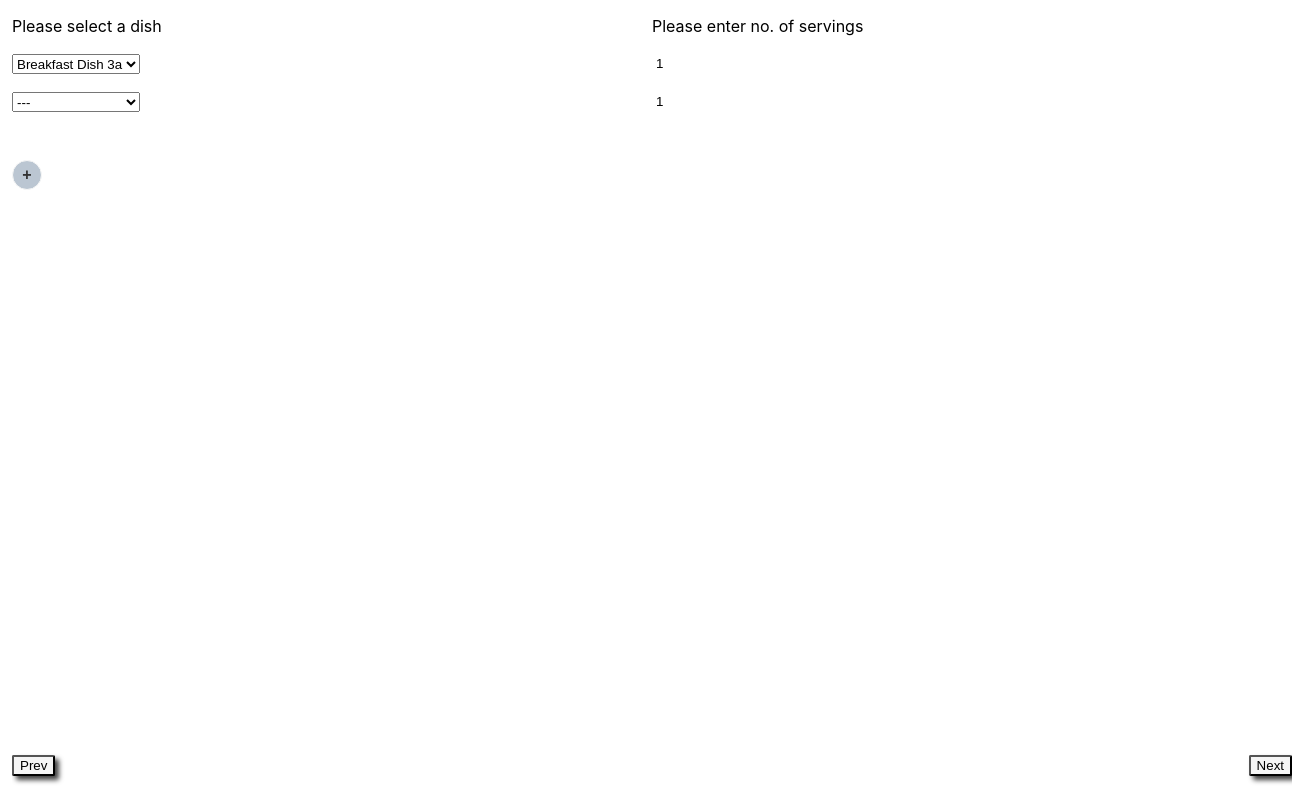
going to next page › should not proceed to next if valid meals are not selected
This screenshot has width=1304, height=800.
Click the button "Next": (1270, 766) [1249, 755, 1292, 776]
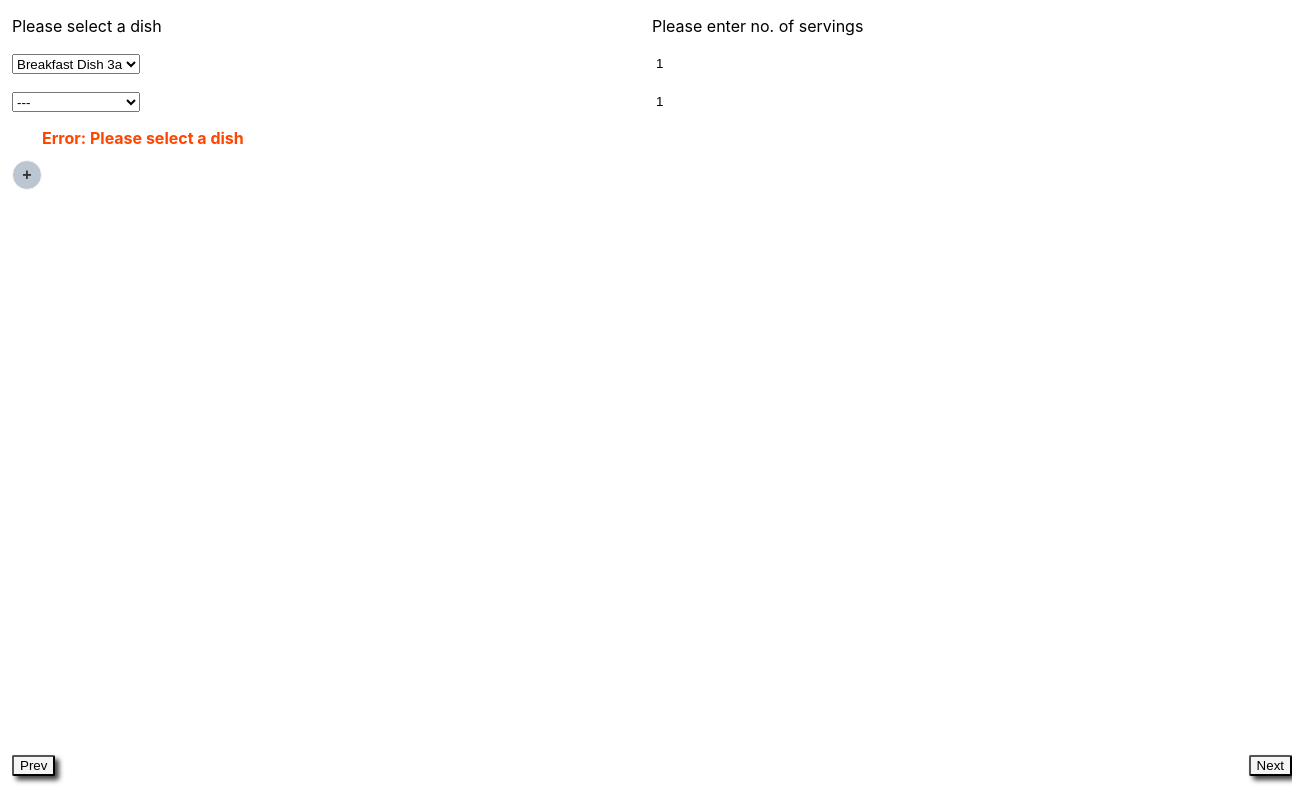
expect the text "Error: Please select a dish" is shown: met, box [42, 128, 244, 148]
